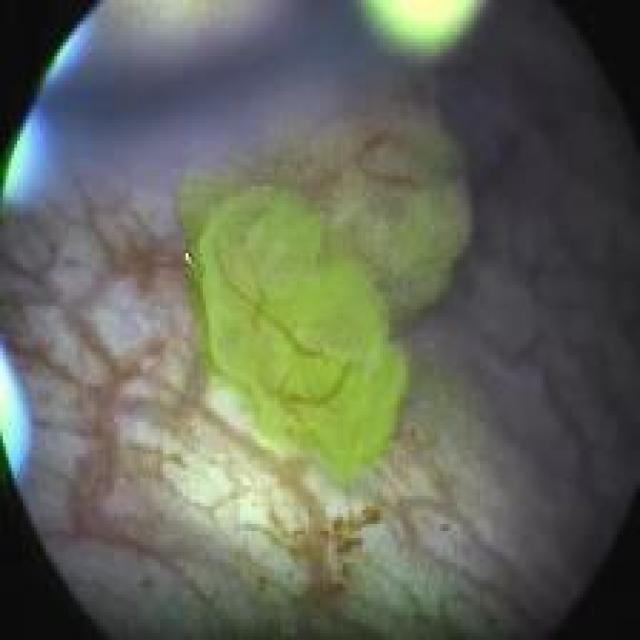color misalignment: (4, 2, 441, 203), (370, 5, 489, 45), (2, 359, 34, 494), (44, 23, 88, 85), (4, 117, 34, 192), (440, 521, 451, 534)
